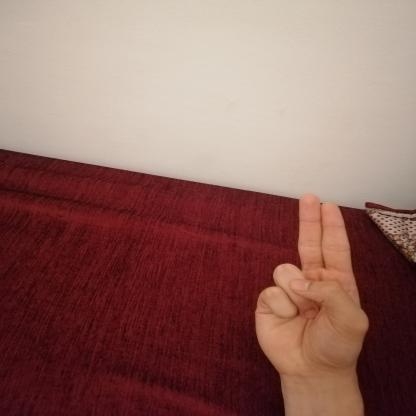TA: (240, 182, 384, 390)
